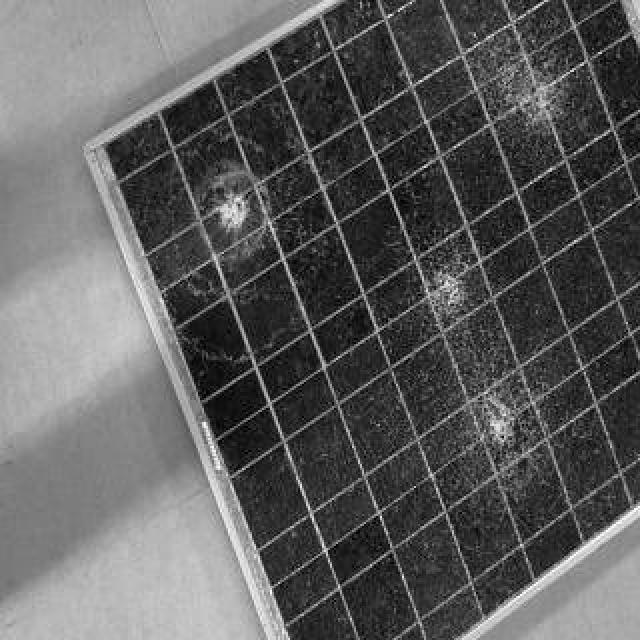Physical-damage: (167, 117, 305, 304), (457, 30, 592, 152), (442, 380, 566, 485), (402, 243, 500, 341)
